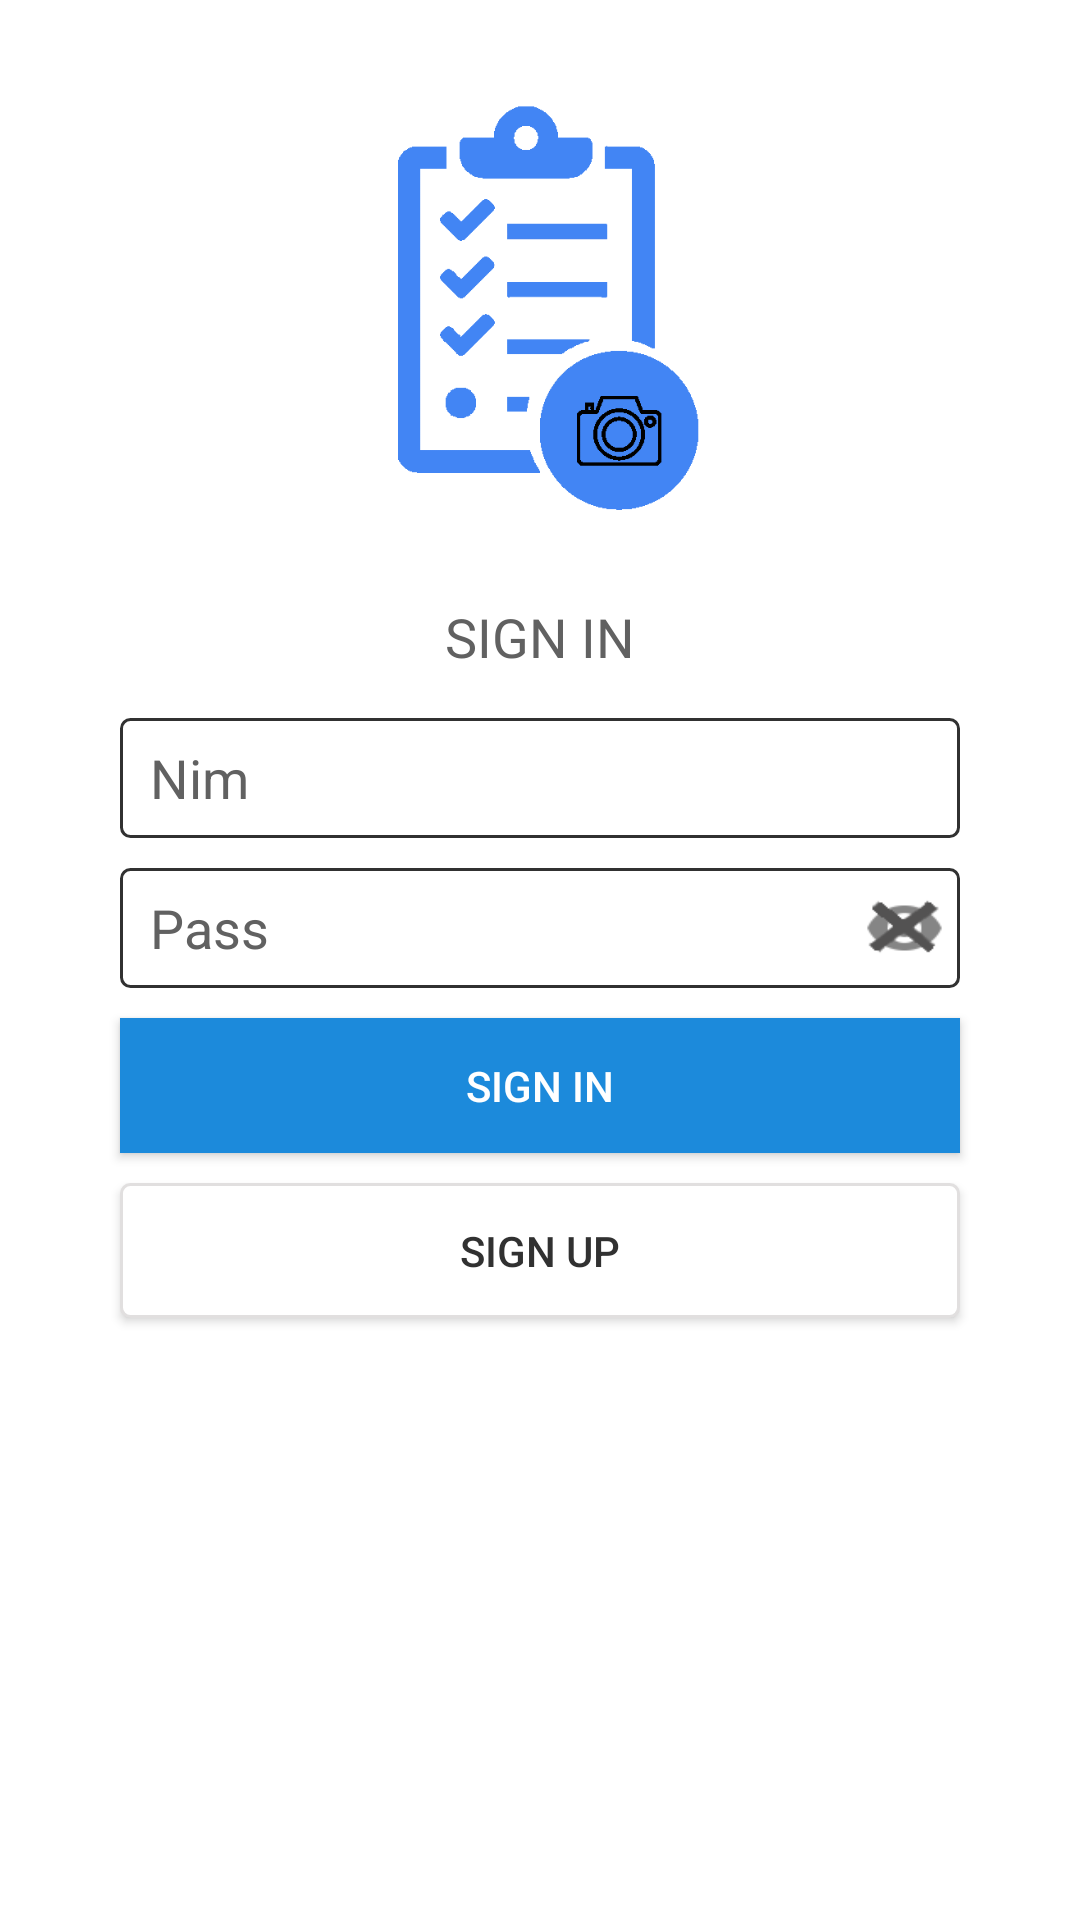

Icon click points for this 1080 x 1920 phone screenshot, format (x,y):
dont show: (904,927)
